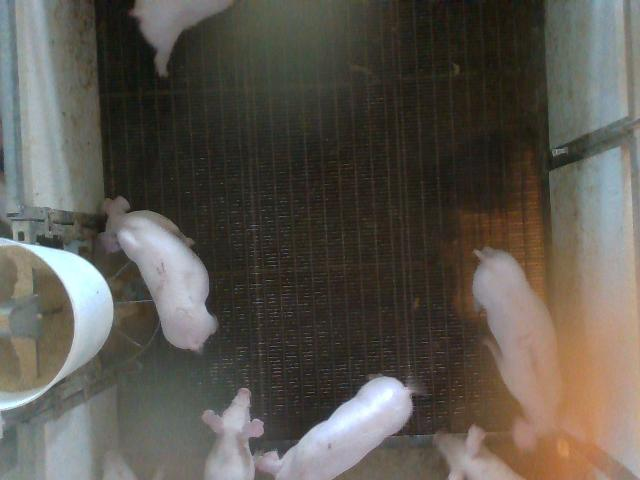pig-3: (472, 246, 562, 448)
